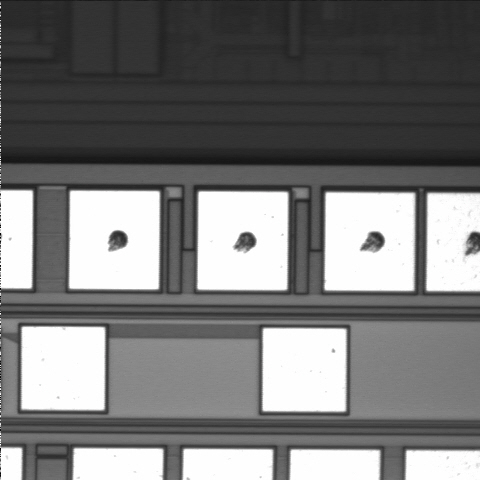pad: (69, 191, 160, 289), (198, 192, 288, 290), (325, 193, 415, 291), (22, 327, 105, 410), (263, 328, 346, 411)
